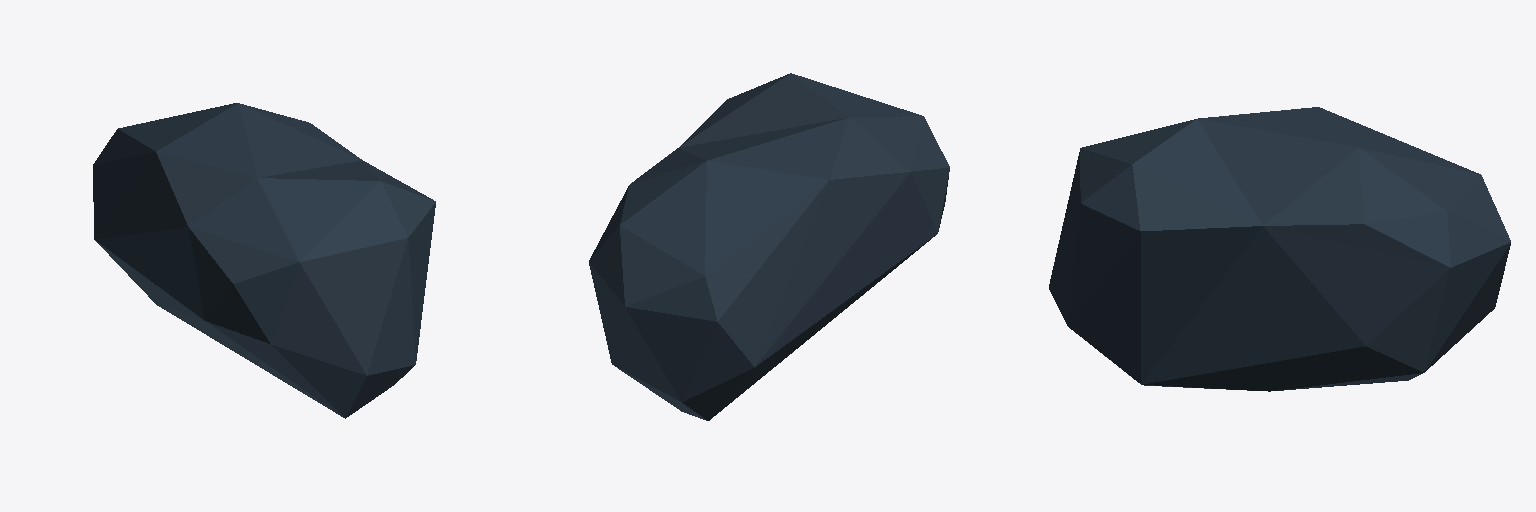
Rendered from rock1.obj.
3 renders of one model, left to right at view 1: azimuth 30°, elevation 25°; view 2: azimuth 150°, elevation 25°; view 3: azimuth 270°, elevation 25°, orthographic.
Parts seen in each view (by area): view 1: BigRock3_Cube.001; view 2: BigRock3_Cube.001; view 3: BigRock3_Cube.001.
Part boxes in pixels (x1,y1,x2,y2): BigRock3_Cube.001: (93, 103, 435, 418); BigRock3_Cube.001: (589, 73, 949, 420); BigRock3_Cube.001: (1049, 107, 1510, 391).
Size of the model in its own units: 25.77 by 26.49 by 46.71.